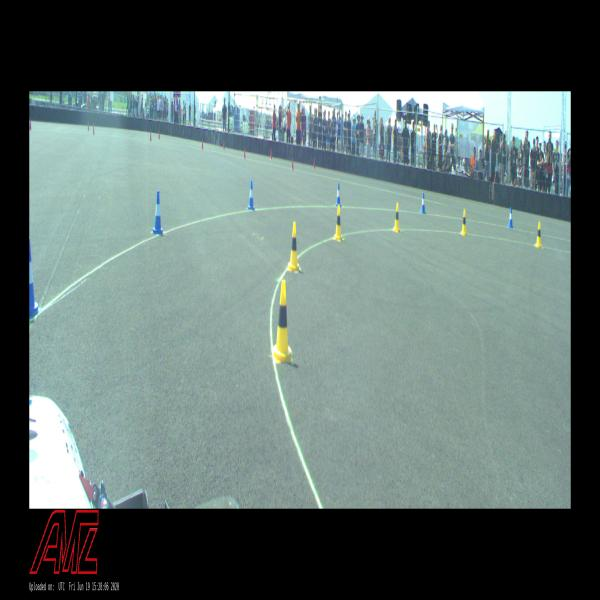blue_cone: (29, 237, 41, 319), (153, 191, 163, 234), (247, 181, 255, 210), (336, 183, 341, 207), (420, 192, 425, 214), (508, 206, 513, 228)
unknown_cone: (291, 157, 294, 170), (243, 148, 246, 159), (270, 148, 272, 160), (30, 118, 32, 129), (313, 158, 315, 169), (93, 124, 95, 134), (150, 131, 152, 141), (158, 130, 160, 140), (202, 139, 204, 149), (222, 140, 224, 150), (88, 121, 89, 131)
yellow_cone: (272, 280, 293, 363), (288, 222, 300, 270), (334, 204, 342, 241), (393, 203, 400, 231), (460, 209, 467, 235), (535, 222, 542, 247)
